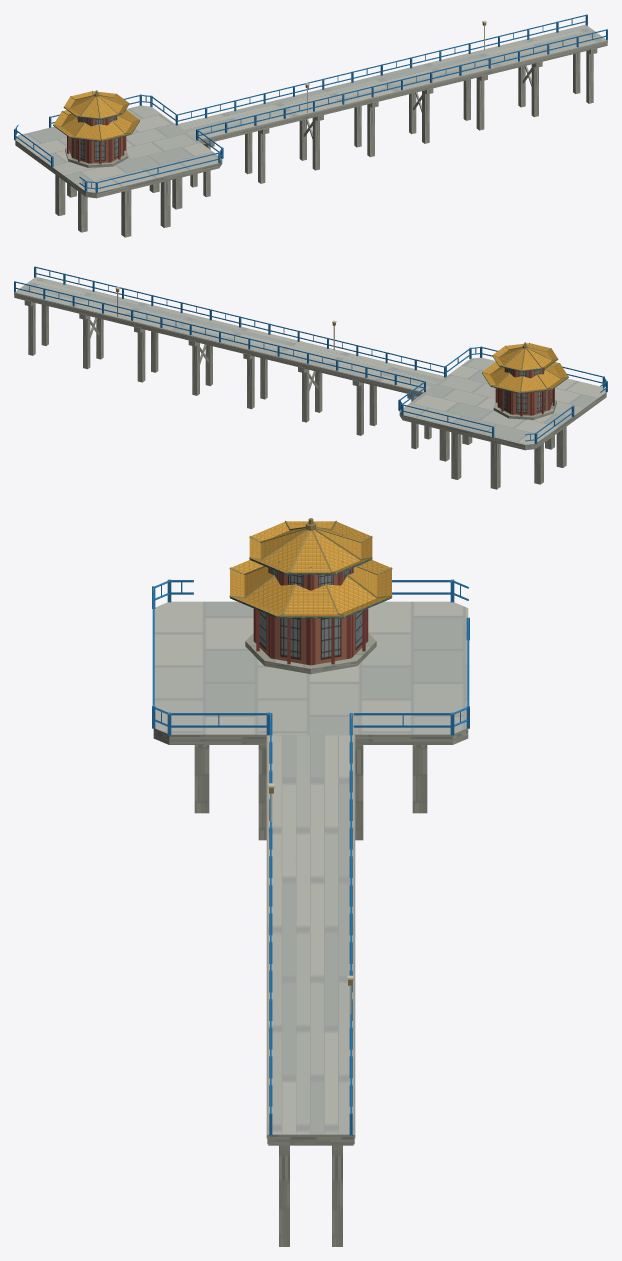
File: SM_QD_Zhanqiao_Huilange_L1.fbx
3 renders of one model, top to bottom at view 1: azimuth 30°, elevation 25°; view 2: azimuth 150°, elevation 25°; view 3: azimuth 270°, elevation 25°, orthographic. The views are drawn at different scales.
Parts seen in each view (by area): view 1: SM_QD_Zhanqiao_Huilange_L1; view 2: SM_QD_Zhanqiao_Huilange_L1; view 3: SM_QD_Zhanqiao_Huilange_L1.
Part boxes in pixels (left/top/right/bottom): SM_QD_Zhanqiao_Huilange_L1: left=14, top=14, right=607, bottom=237; SM_QD_Zhanqiao_Huilange_L1: left=14, top=266, right=607, bottom=489; SM_QD_Zhanqiao_Huilange_L1: left=152, top=518, right=469, bottom=1246.
Size of what is drawn, in the model's own units: 56.28 by 14.16 by 12.31.
Materials: 1 (1 with a texture image).
